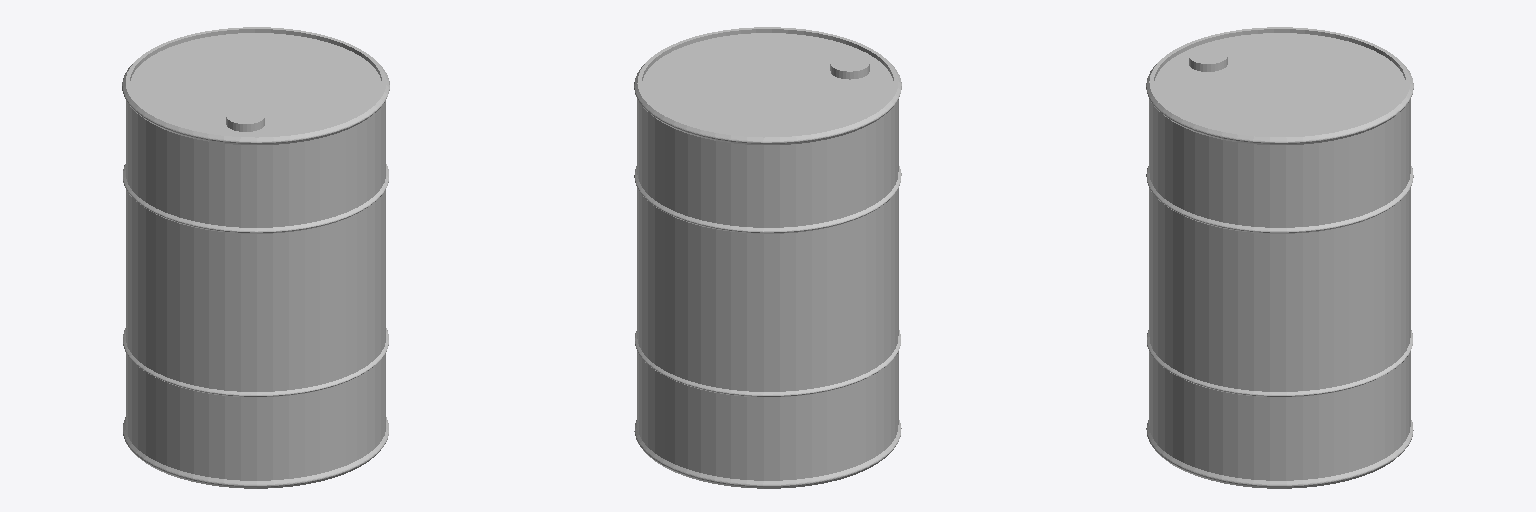
The model's file is barrel.obj.
The picture shows the model from 3 angles: view 1: azimuth 30°, elevation 25°; view 2: azimuth 150°, elevation 25°; view 3: azimuth 270°, elevation 25°; orthographic projection.
Parts seen in each view (by area): view 1: Mesh Mesh; view 2: Mesh Mesh; view 3: Mesh Mesh.
Boxes of the visible parts, x1,y1,x2,y2 form: Mesh Mesh: [122, 27, 389, 488]; Mesh Mesh: [634, 27, 901, 488]; Mesh Mesh: [1146, 27, 1413, 488].
Bounding box in the file's own units: 4.38 × 6.42 × 4.39.